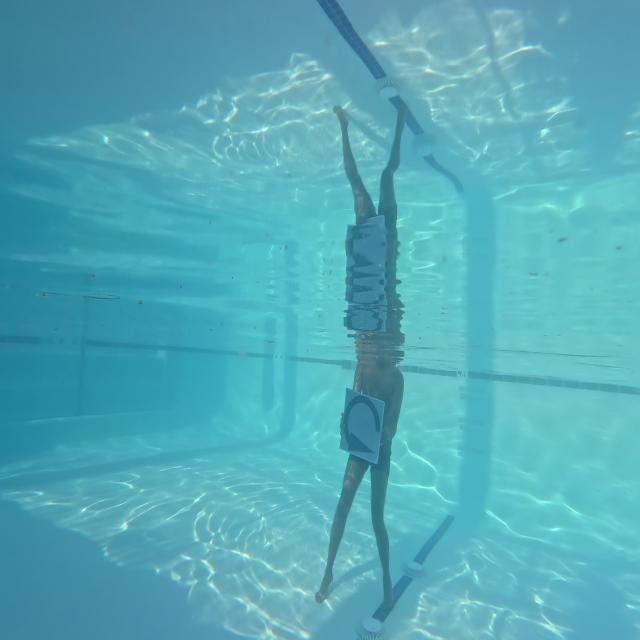blue_side: (337, 386, 384, 472)
